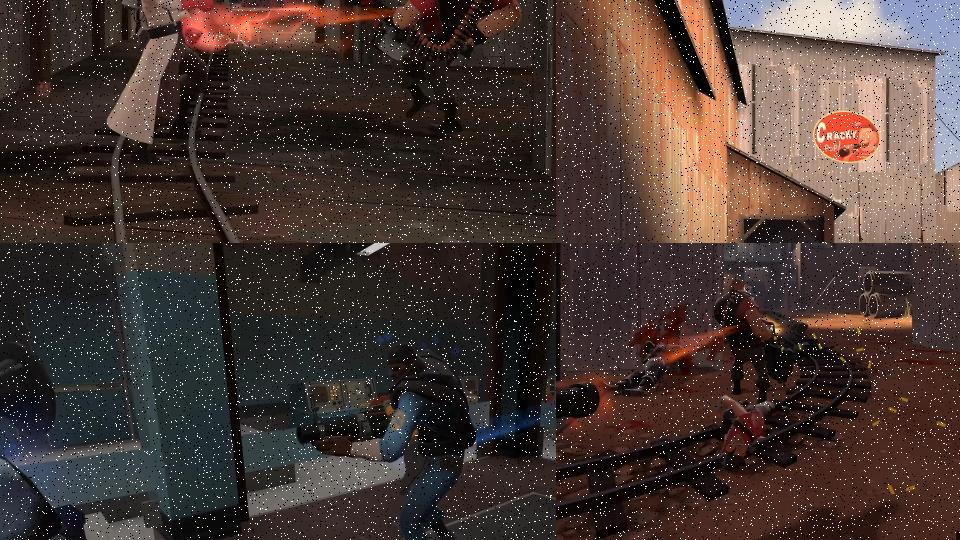Enemy: (293, 337, 478, 540), (339, 0, 525, 136), (106, 0, 243, 168), (0, 333, 102, 540), (707, 274, 796, 404), (700, 395, 796, 476)
